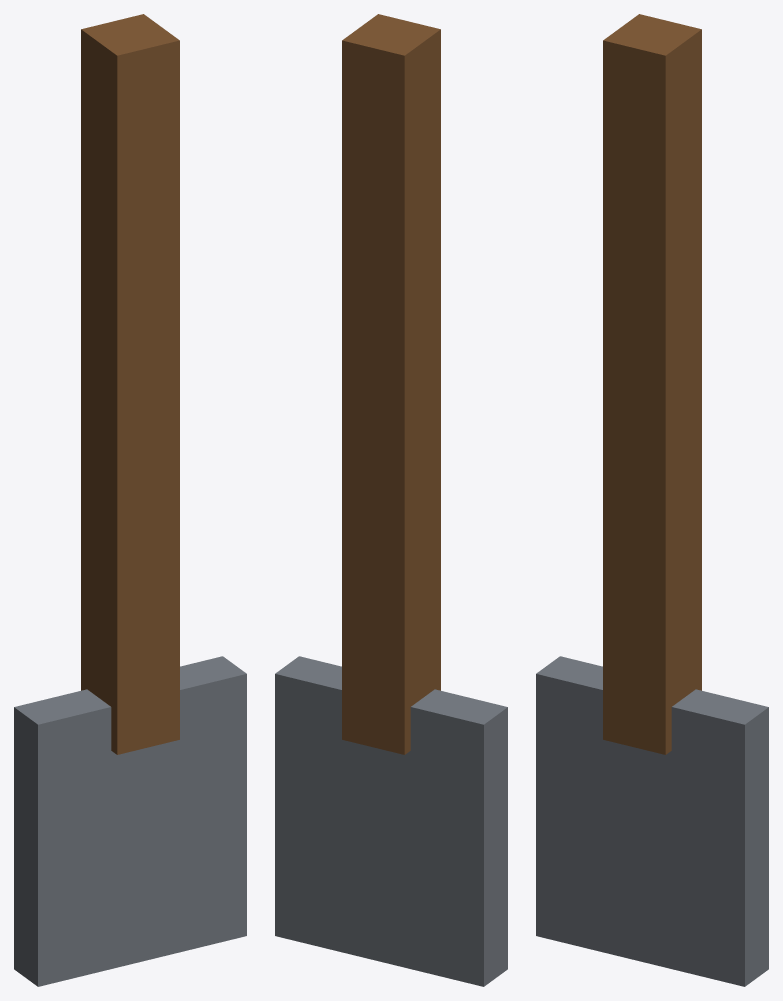
Rendered from good_17.glb.
3 views of the same model, side by side, from view 1: azimuth 30°, elevation 25°; view 2: azimuth 150°, elevation 25°; view 3: azimuth 330°, elevation 25° (orthographic).
Visible parts, largest first — view 1: good_17; view 2: good_17; view 3: good_17.
Part boxes in pixels (bbox=[...]): good_17: bbox=[14, 14, 246, 986]; good_17: bbox=[275, 14, 507, 986]; good_17: bbox=[536, 14, 768, 986].
Bounding box in the file's own units: 0.05 × 0.21 × 0.015.
